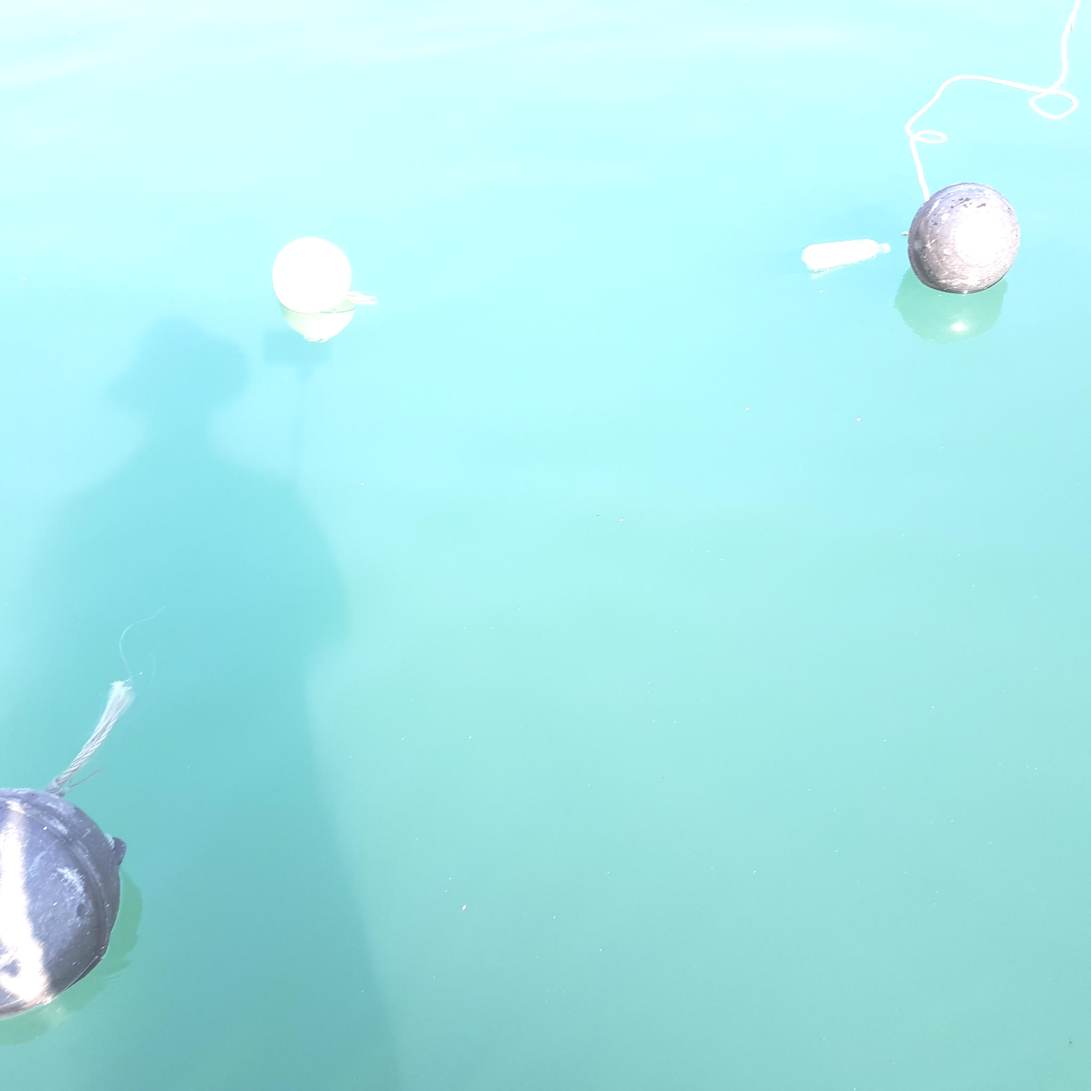sampah_terapung: (906, 0, 1081, 201), (1, 789, 127, 1018), (45, 606, 165, 799), (907, 182, 1021, 295), (273, 238, 352, 314), (801, 239, 891, 271), (340, 292, 377, 305)
